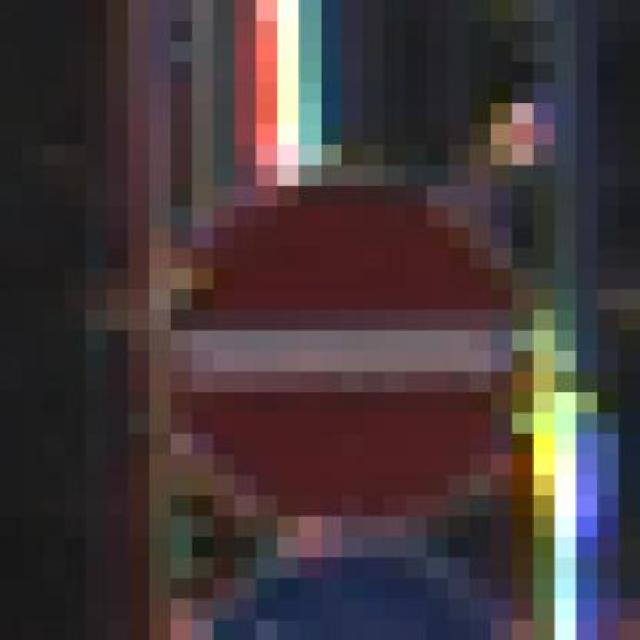No Entry: (107, 165, 555, 558)
